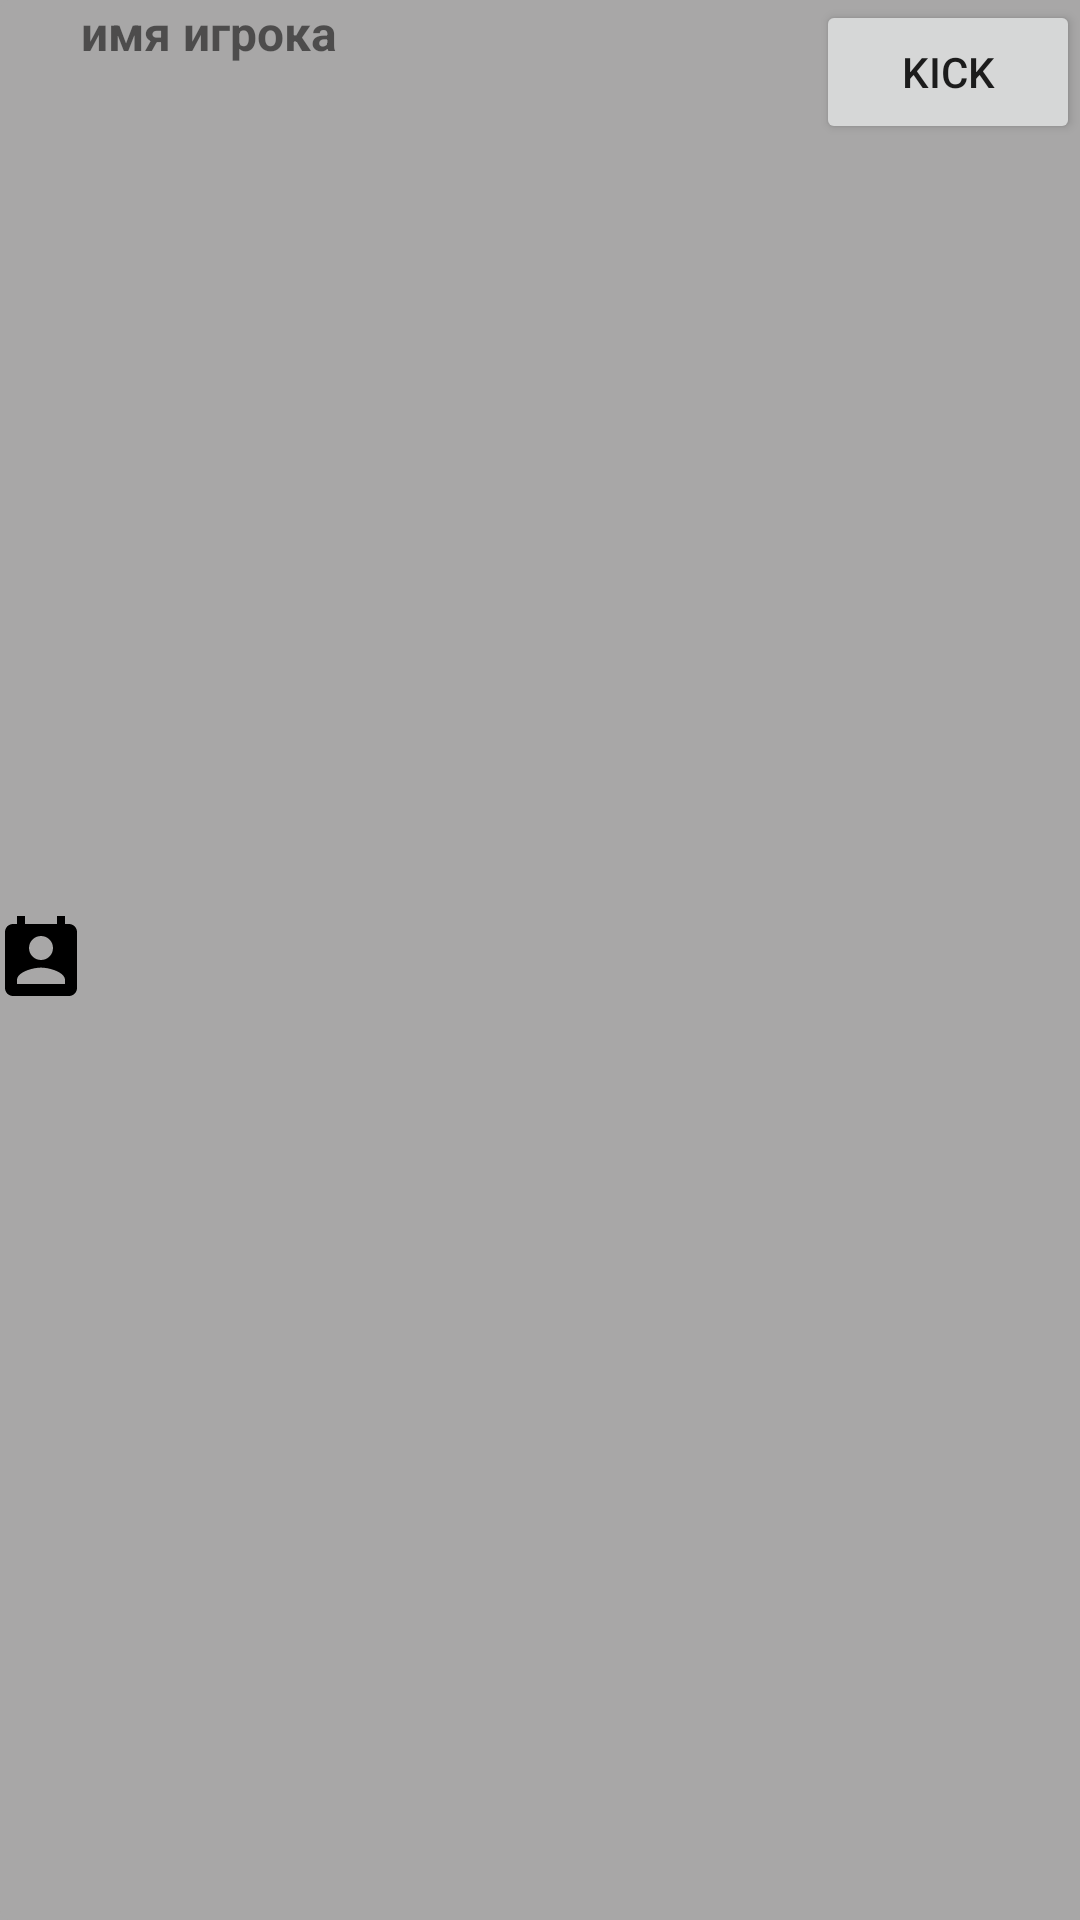

Screen size 1080 x 1920. Icon name, then its center in pixels as (x=x, y=y):
record user: (x=41, y=956)
